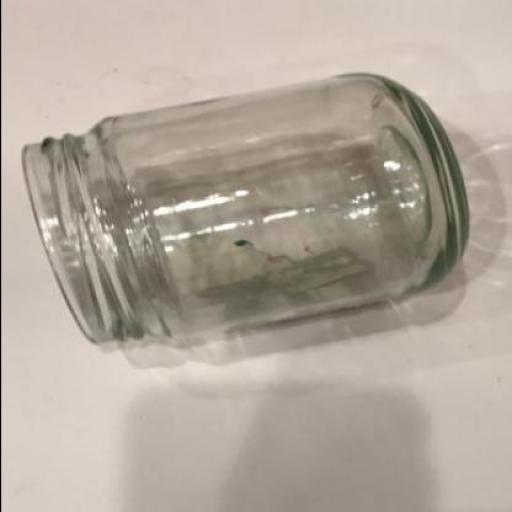glass: (17, 72, 465, 344)
